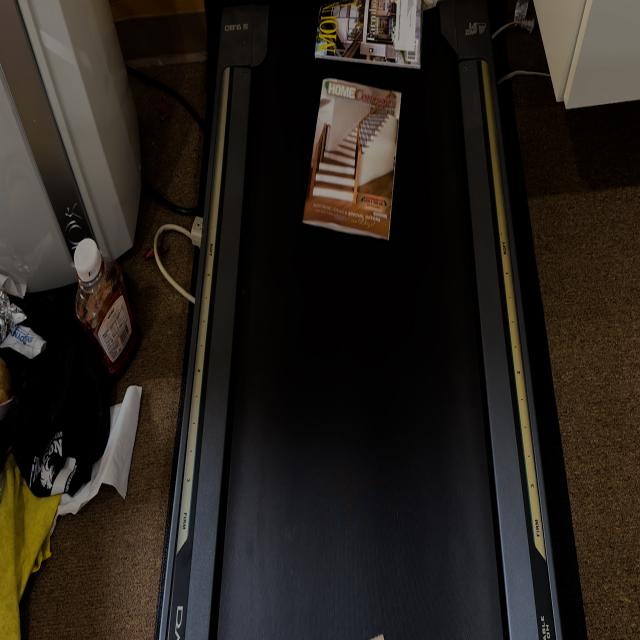Recycle: (302, 76, 402, 245), (314, 0, 422, 71)
